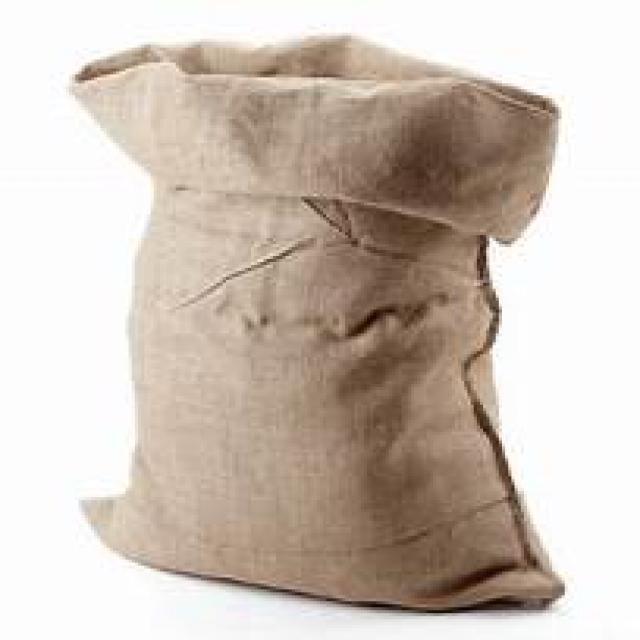gunny_bag: (63, 30, 575, 614)
